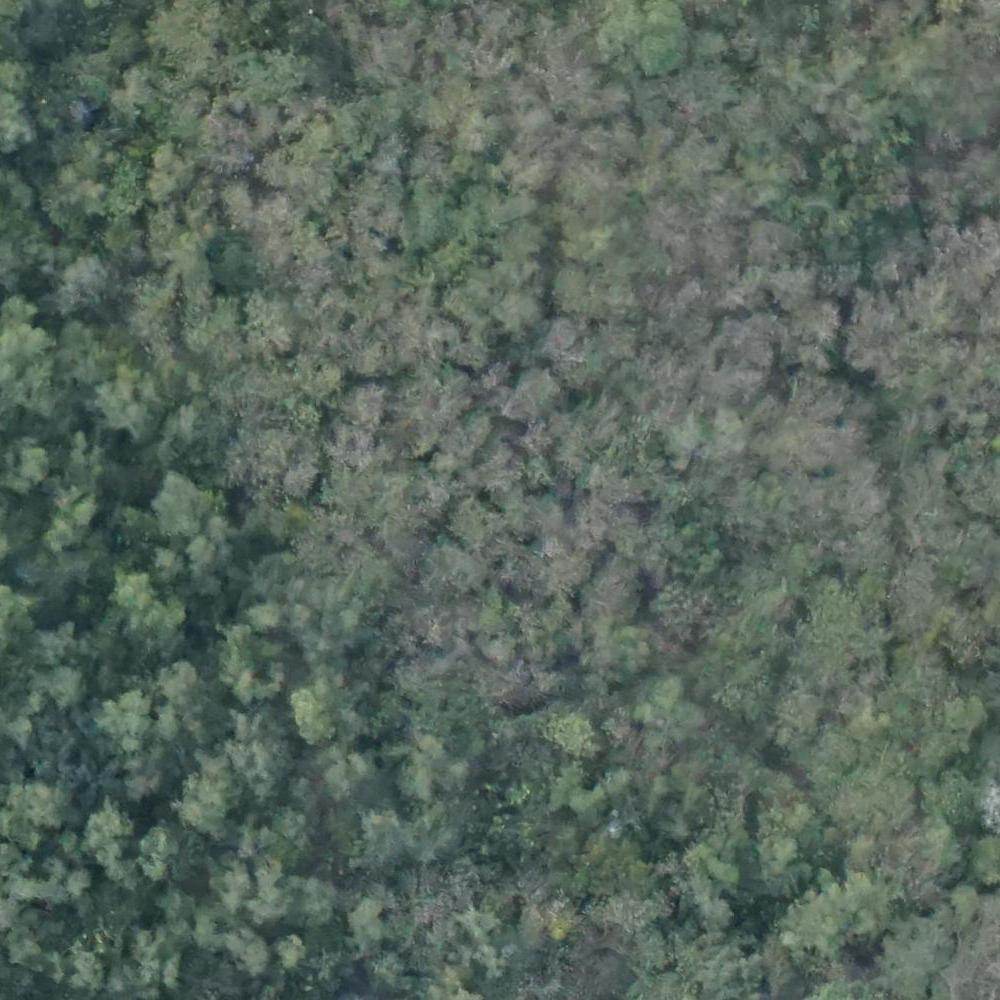tree: (781, 870, 876, 968), (600, 2, 693, 71), (1, 307, 57, 403), (167, 758, 236, 830), (214, 627, 280, 701), (97, 372, 166, 435), (400, 177, 455, 250), (540, 702, 606, 756), (288, 676, 341, 741), (596, 623, 653, 683), (148, 470, 204, 531), (98, 694, 156, 751), (185, 292, 238, 349), (54, 261, 112, 312), (768, 688, 819, 745), (505, 369, 557, 423), (297, 345, 348, 400), (225, 925, 277, 975), (139, 143, 192, 192), (435, 538, 482, 591), (107, 563, 156, 612), (137, 820, 179, 877), (349, 890, 392, 945), (1, 443, 44, 496), (82, 803, 129, 849), (183, 519, 226, 567), (327, 754, 371, 799), (543, 755, 583, 804), (276, 936, 313, 966)
